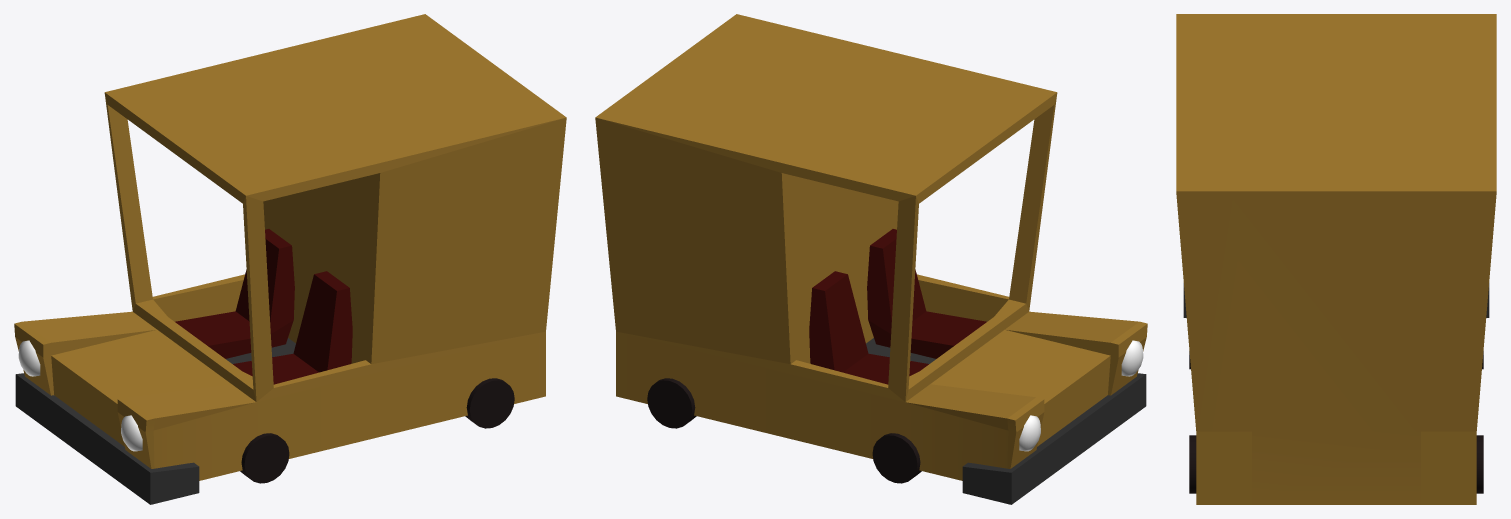
Rendered from Van.fbx.
3 renders of one model, left to right at view 1: azimuth 30°, elevation 25°; view 2: azimuth 150°, elevation 25°; view 3: azimuth 270°, elevation 25°, orthographic. The views are drawn at different scales.
Parts seen in each view (by area): view 1: Van; view 2: Van; view 3: Van.
Boxes of the visible parts, box(x1,y1,x2,y2) form: Van: box(14, 14, 566, 504); Van: box(595, 14, 1147, 504); Van: box(1176, 14, 1496, 504).
Bounding box in the file's own units: 3.84 × 2.59 × 2.22.
1 material, 1 textured.
